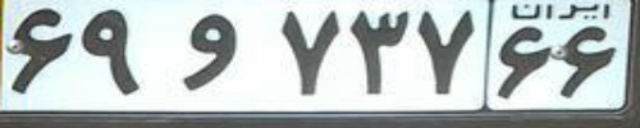3: (349, 11, 409, 94)
6: (11, 7, 70, 94), (556, 25, 617, 99), (499, 26, 551, 98)
7: (280, 10, 341, 94), (416, 11, 475, 94)
9: (81, 8, 137, 95)
vav: (178, 13, 237, 89)
